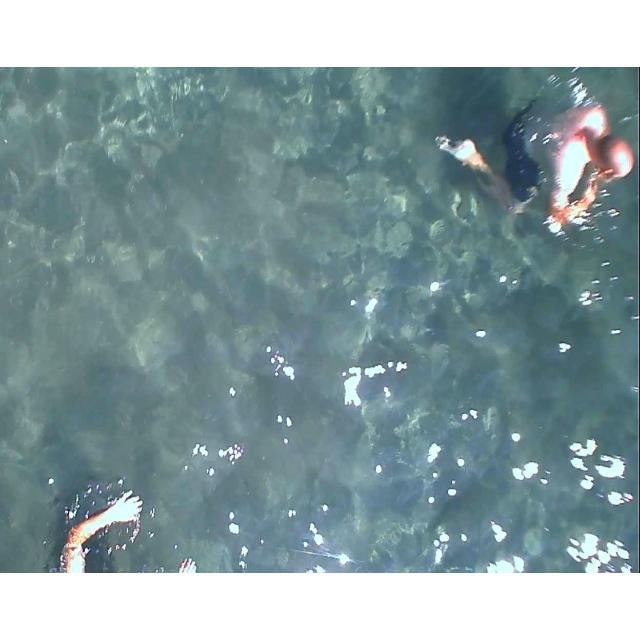human: (524, 76, 633, 247)
